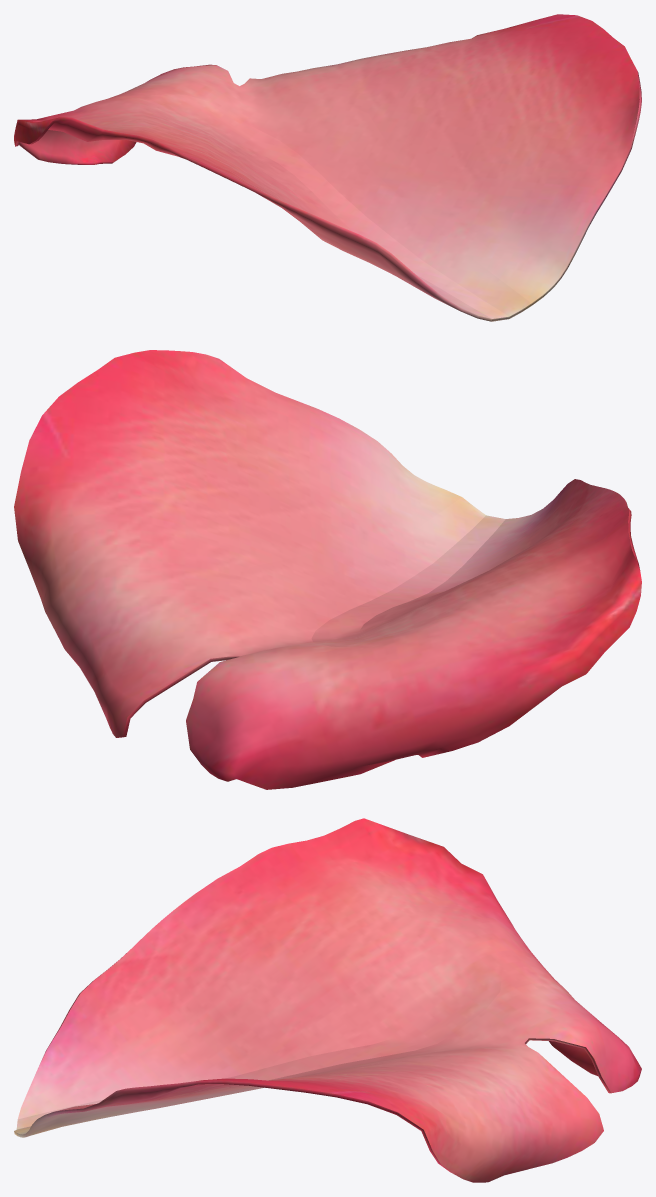
The model's file is flower3.obj.
3 renders of one model, top to bottom at view 1: azimuth 30°, elevation 25°; view 2: azimuth 150°, elevation 25°; view 3: azimuth 270°, elevation 25°, orthographic. The views are drawn at different scales.
Parts seen in each view (by area): view 1: 3d66-Editable_mesh-20557473-001.007; view 2: 3d66-Editable_mesh-20557473-001.007; view 3: 3d66-Editable_mesh-20557473-001.007.
Part boxes in pixels (<box>): 3d66-Editable_mesh-20557473-001.007: <box>14,14,641,321</box>; 3d66-Editable_mesh-20557473-001.007: <box>14,350,641,789</box>; 3d66-Editable_mesh-20557473-001.007: <box>14,818,641,1182</box>.
Bounding box in the file's own units: 0.2761 × 0.0787 × 0.2707.
1 material, 1 textured.
